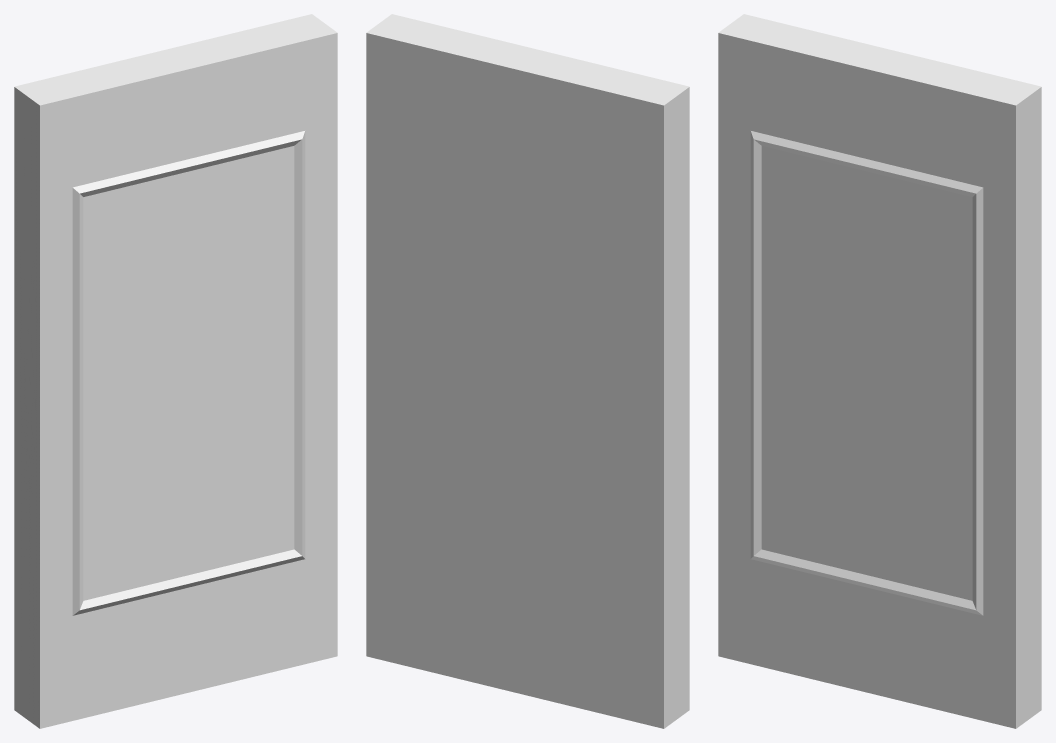
The model's file is WhiteGalleryInfo.glb.
3 renders of one model, left to right at view 1: azimuth 30°, elevation 25°; view 2: azimuth 150°, elevation 25°; view 3: azimuth 330°, elevation 25°, orthographic.
Visible parts, largest first — view 1: galleryInfo_White; view 2: galleryInfo_White; view 3: galleryInfo_White.
Boxes of the visible parts, <box> form: galleryInfo_White: <box>14,14,337,728</box>; galleryInfo_White: <box>366,14,689,728</box>; galleryInfo_White: <box>718,14,1041,728</box>.
Size of what is drawn, in the model's own units: 2 by 4 by 0.3245.
Materials: 1 (1 with a texture image).
